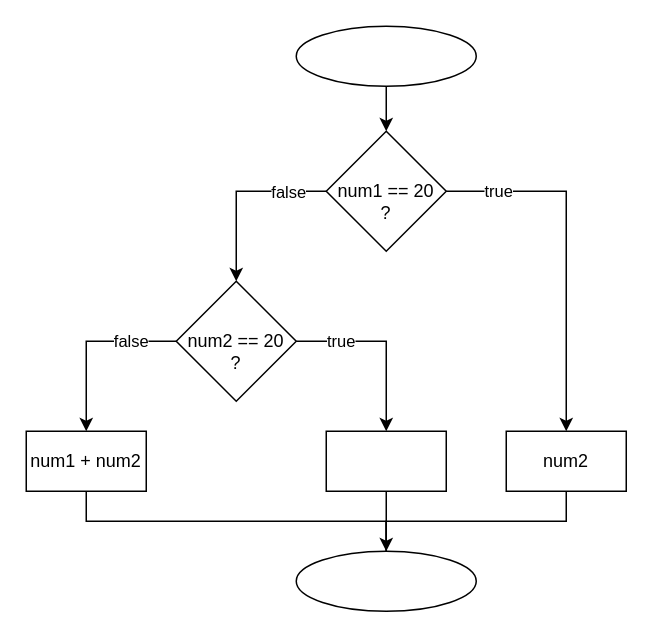
Image size: 653x638. Some labels were removed from this diagram. Here are the shapes that lost their labels. From the top down, the centre of each, then its label:
the point at 385,55: num1 num2
the point at 385,460: num1
